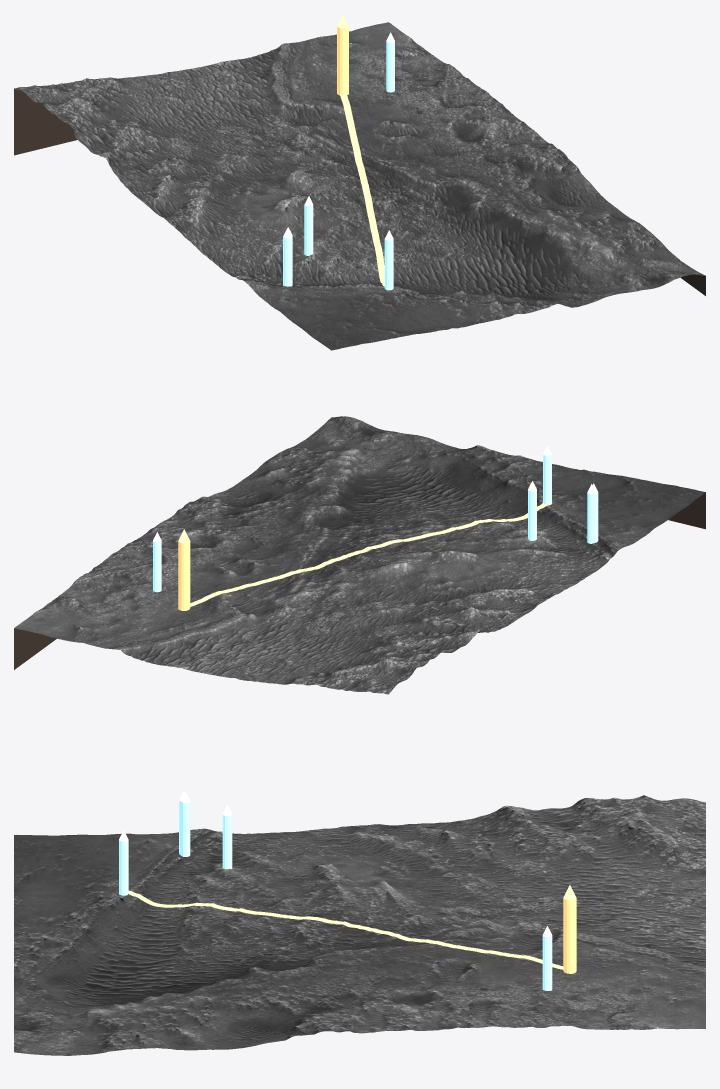
The model's file is jezero-marswalk-x3.glb.
3 renders of one model, top to bottom at view 1: azimuth 30°, elevation 25°; view 2: azimuth 150°, elevation 25°; view 3: azimuth 270°, elevation 25°, orthographic. The views are drawn at different scales.
Parts seen in each view (by area): view 1: terrain, plinth, science, route, base; view 2: terrain, science, plinth, route, base; view 3: terrain, science, route, base.
Boxes of the visible parts, x1,y1,x2,y2 form: terrain: [14, 22, 704, 350]; plinth: [14, 88, 705, 295]; science: [283, 32, 394, 290]; route: [340, 94, 384, 286]; base: [337, 14, 348, 95]; terrain: [14, 416, 705, 694]; science: [153, 445, 598, 592]; plinth: [14, 492, 705, 669]; route: [190, 503, 548, 606]; base: [178, 529, 190, 610]; terrain: [14, 795, 705, 1055]; science: [119, 790, 552, 990]; route: [127, 890, 563, 969]; base: [563, 885, 576, 973].
Size of the model in its own units: 0.4089 by 0.1272 by 0.6.
5 materials, 1 textured.
